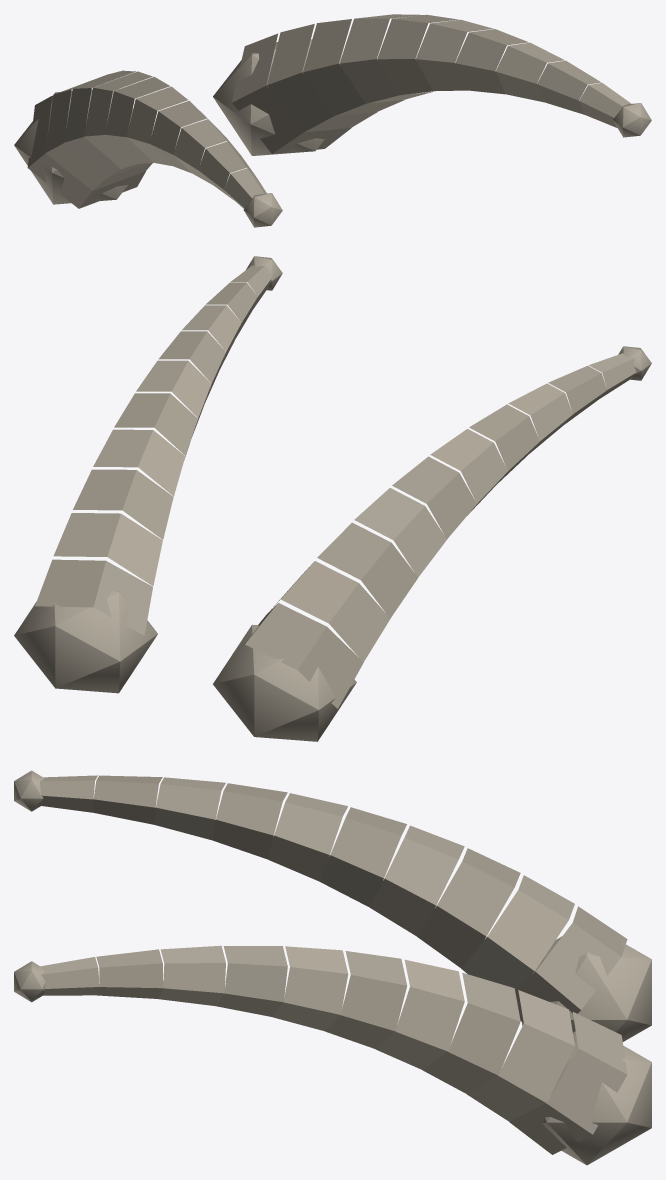
The model's file is goat_horns.glb.
3 renders of one model, top to bottom at view 1: azimuth 30°, elevation 25°; view 2: azimuth 150°, elevation 25°; view 3: azimuth 270°, elevation 25°, orthographic. The views are drawn at different scales.
Parts seen in each view (by area): view 1: goat_horns; view 2: goat_horns; view 3: goat_horns.
Part boxes in pixels (box(x1,y1,x2,y2)): goat_horns: box(14, 14, 651, 227); goat_horns: box(14, 256, 651, 741); goat_horns: box(14, 770, 651, 1165).
Bounding box in the file's own units: 0.1402 × 0.0733 × 0.1838.
